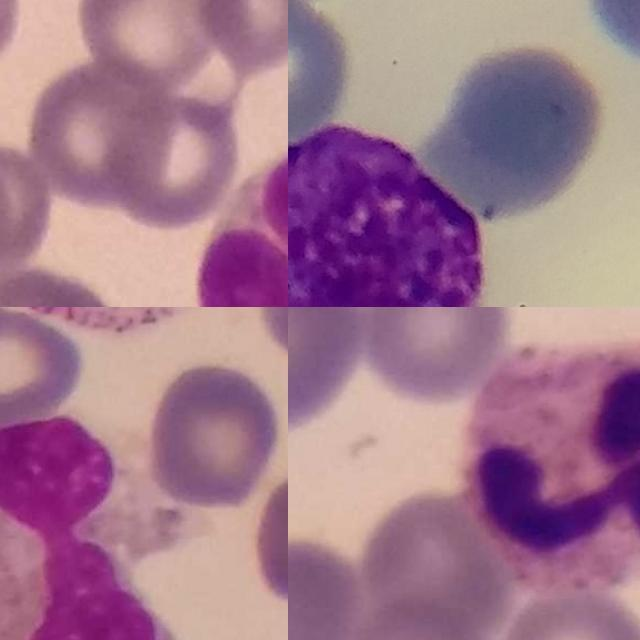Basophil: (288, 123, 487, 307)
Eosinophil: (0, 413, 218, 640)
Monocyte: (0, 307, 224, 332)
Neutrophil: (464, 341, 640, 590)
